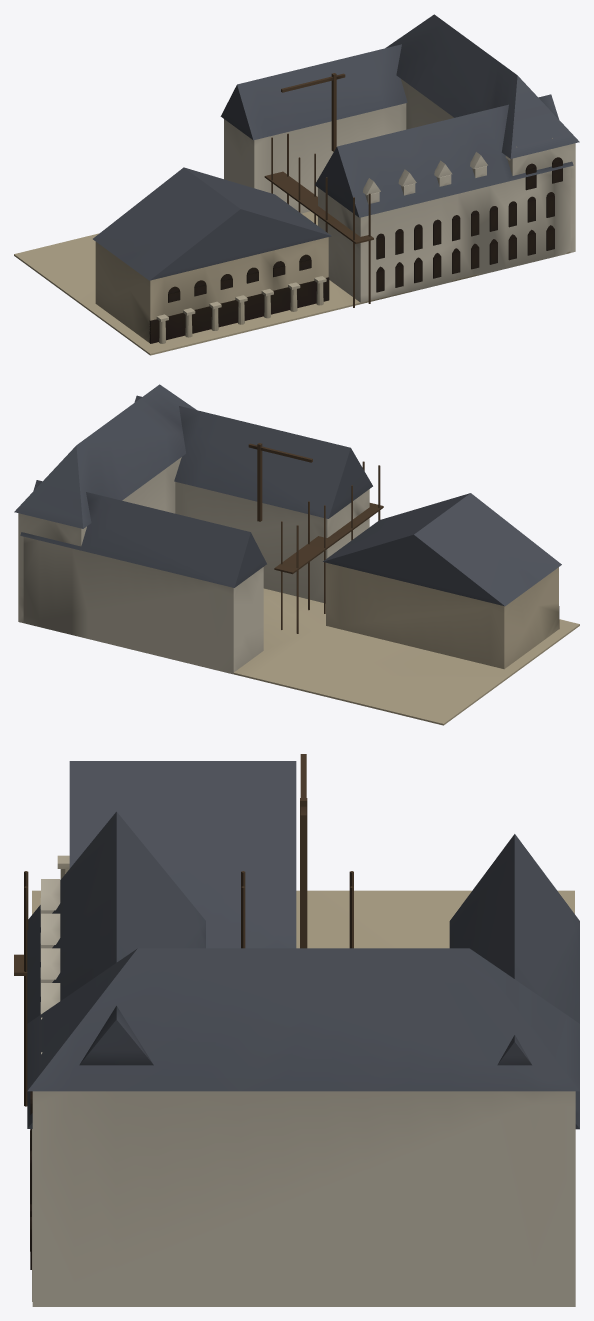
Rendered from hotel-de-ville-1550.glb.
The picture shows the model from 3 angles, top to bottom: view 1: azimuth 30°, elevation 25°; view 2: azimuth 150°, elevation 25°; view 3: azimuth 270°, elevation 25°; orthographic projection. The views are drawn at different scales.
Visible parts, largest first — view 1: p1_roofs, p0_walls, p2_old house; view 2: p0_walls, p1_roofs, p2_old house; view 3: p1_roofs, p2_old house, p0_walls.
Part boxes in pixels (left/top/right/bottom): p1_roofs: left=220, top=14, right=579, bottom=252; p0_walls: left=14, top=103, right=570, bottom=355; p2_old house: left=93, top=73, right=373, bottom=343; p0_walls: left=23, top=482, right=579, bottom=725; p1_roofs: left=14, top=384, right=372, bottom=622; p2_old house: left=248, top=443, right=561, bottom=669; p1_roofs: left=27, top=811, right=579, bottom=1306; p2_old house: left=14, top=754, right=353, bottom=1106; p0_walls: left=30, top=890, right=574, bottom=1301.
Bounding box in the file's own units: 81.6 × 31.03 × 46.9.
